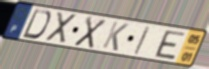D: (20, 8, 53, 41)
E: (153, 29, 187, 61)
I: (132, 25, 152, 56)
K: (100, 20, 130, 53)
X: (72, 15, 108, 51), (44, 11, 79, 45)
